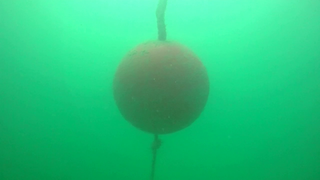buoy: (111, 39, 210, 135)
